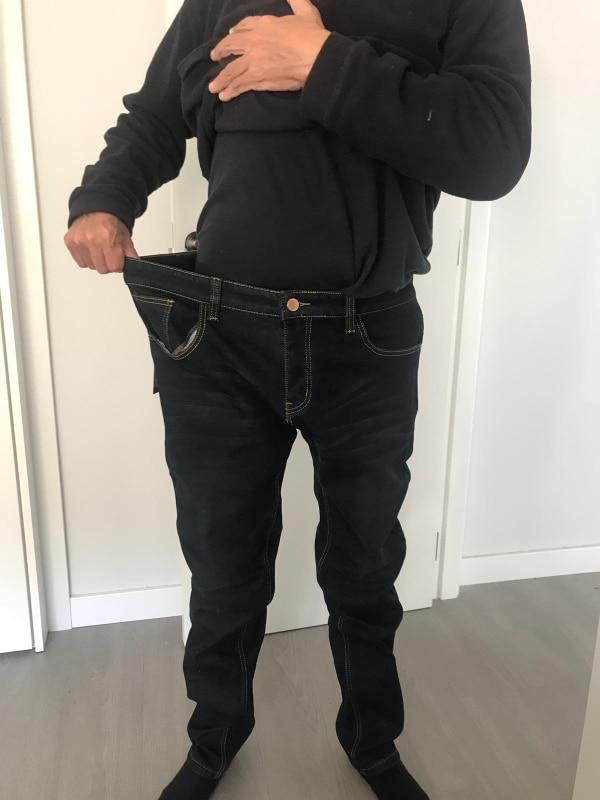jeans: (120, 246, 415, 750)
